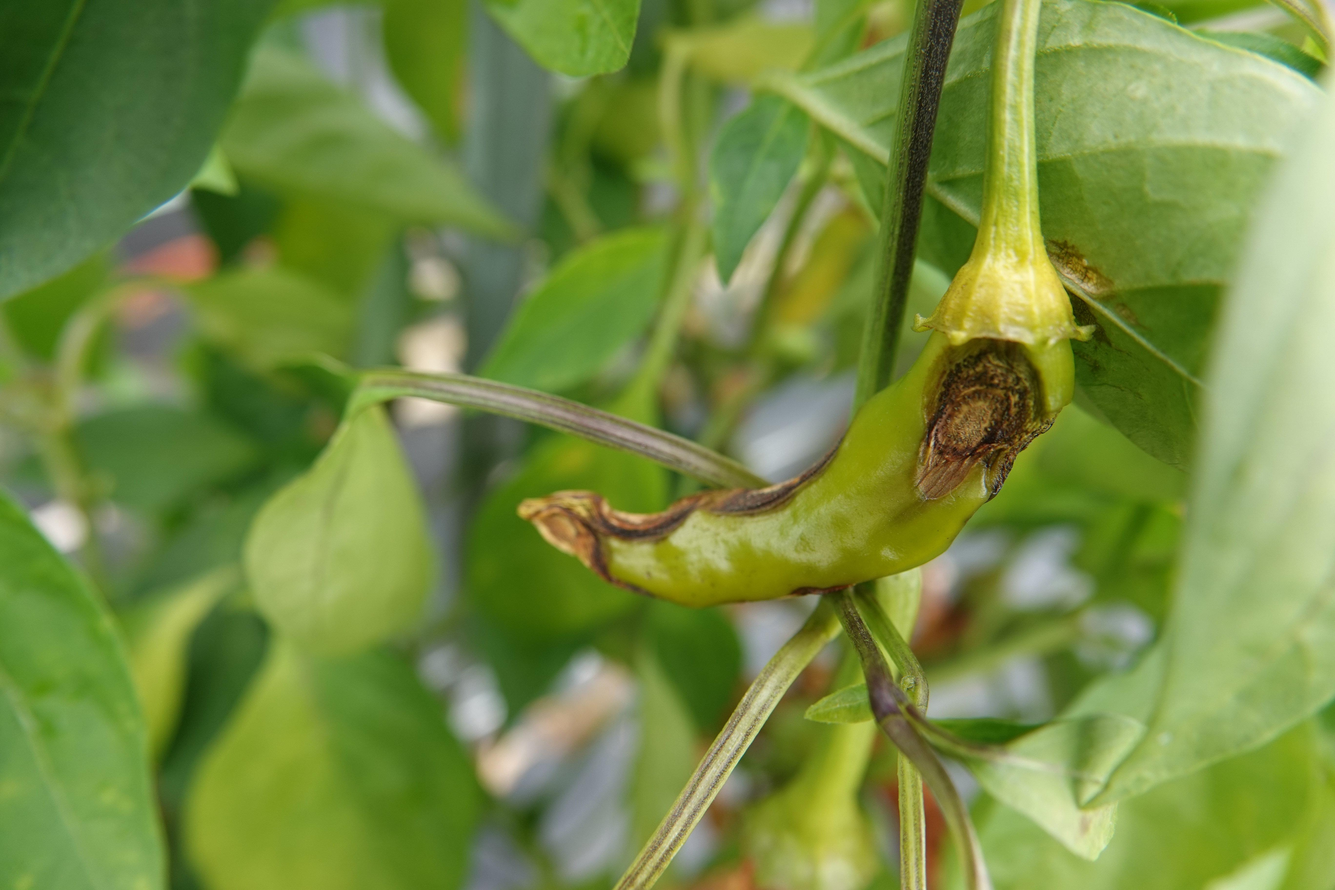Busuk Buah Antraknosa: (515, 223, 1098, 609)
